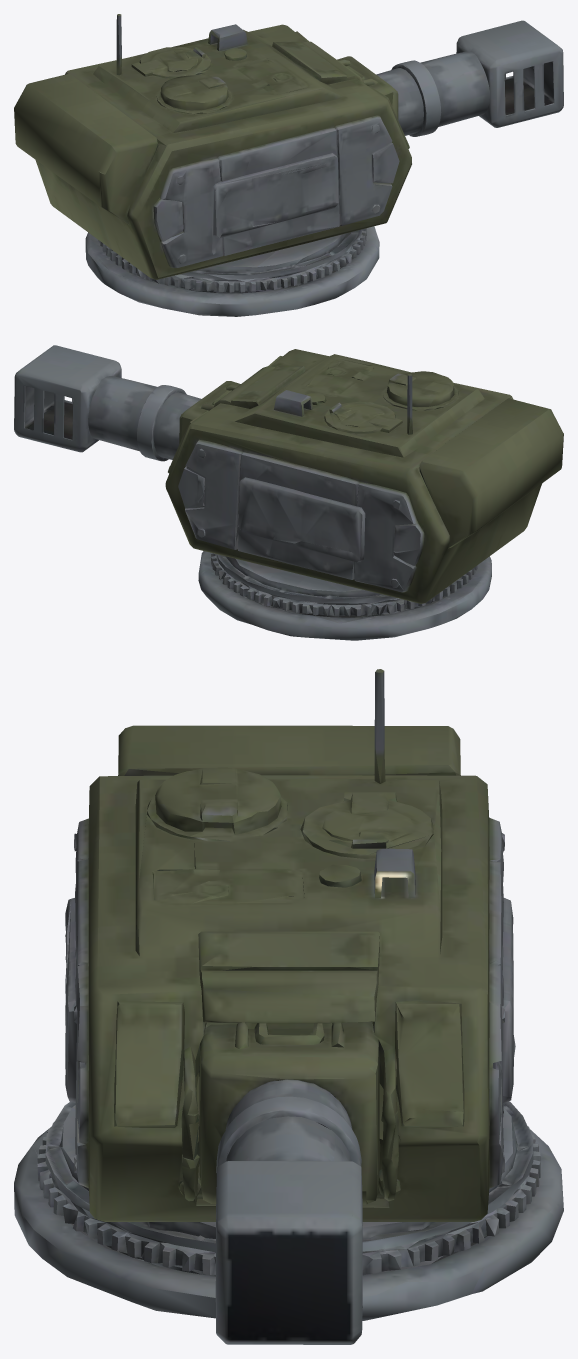
Rendered from weapon-siege-0-light.glb.
The picture shows the model from 3 angles, top to bottom: view 1: azimuth 30°, elevation 25°; view 2: azimuth 150°, elevation 25°; view 3: azimuth 270°, elevation 25°; orthographic projection. The views are drawn at different scales.
Parts seen in each view (by area): view 1: weapon-siege-0-light; view 2: weapon-siege-0-light; view 3: weapon-siege-0-light.
Part boxes in pixels (<box>): weapon-siege-0-light: <box>14,14,563,316</box>; weapon-siege-0-light: <box>14,345,563,640</box>; weapon-siege-0-light: <box>14,669,563,1344</box>.
Size of the model in its own units: 2.93 by 1.4 by 1.52.
Materials: 1 (1 with a texture image).
